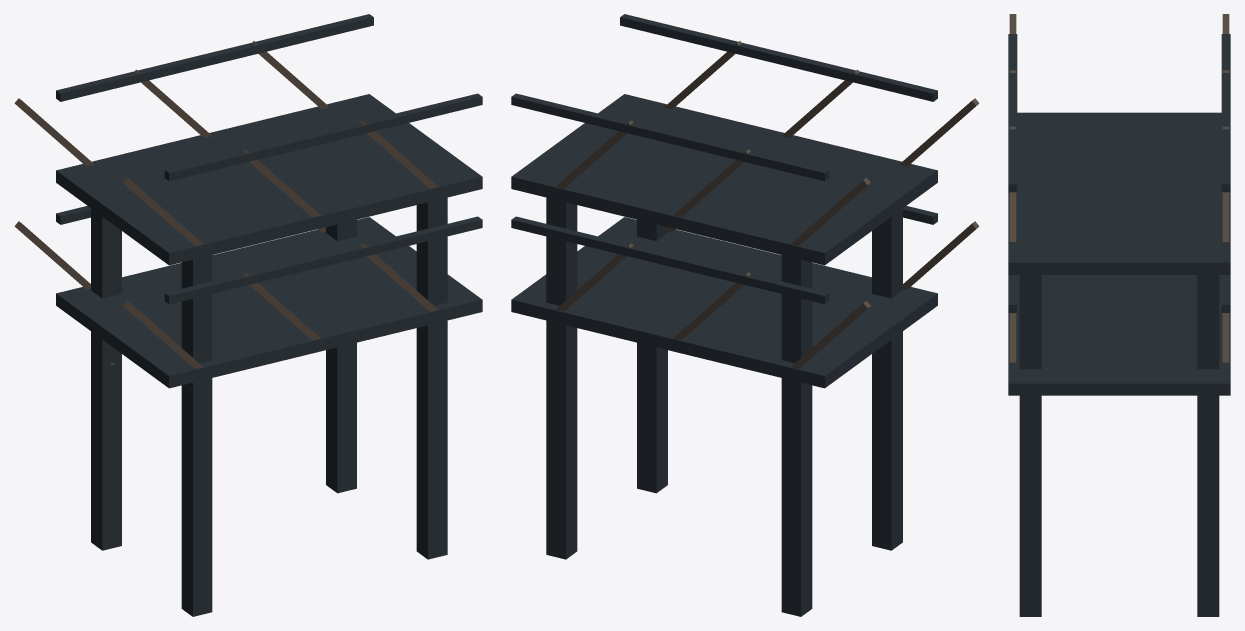
Rendered from scaffold-3.glb.
3 renders of one model, left to right at view 1: azimuth 30°, elevation 25°; view 2: azimuth 150°, elevation 25°; view 3: azimuth 270°, elevation 25°, orthographic.
Parts seen in each view (by area): view 1: scaffold/2/KR-230-3; view 2: scaffold/2/KR-230-3; view 3: scaffold/2/KR-230-3.
Boxes of the visible parts, left/top/right/bottom form: scaffold/2/KR-230-3: left=14, top=14, right=482, bottom=616; scaffold/2/KR-230-3: left=511, top=14, right=979, bottom=616; scaffold/2/KR-230-3: left=1008, top=14, right=1230, bottom=616.
Bounding box in the file's own units: 9.08 × 11.15 × 5.
